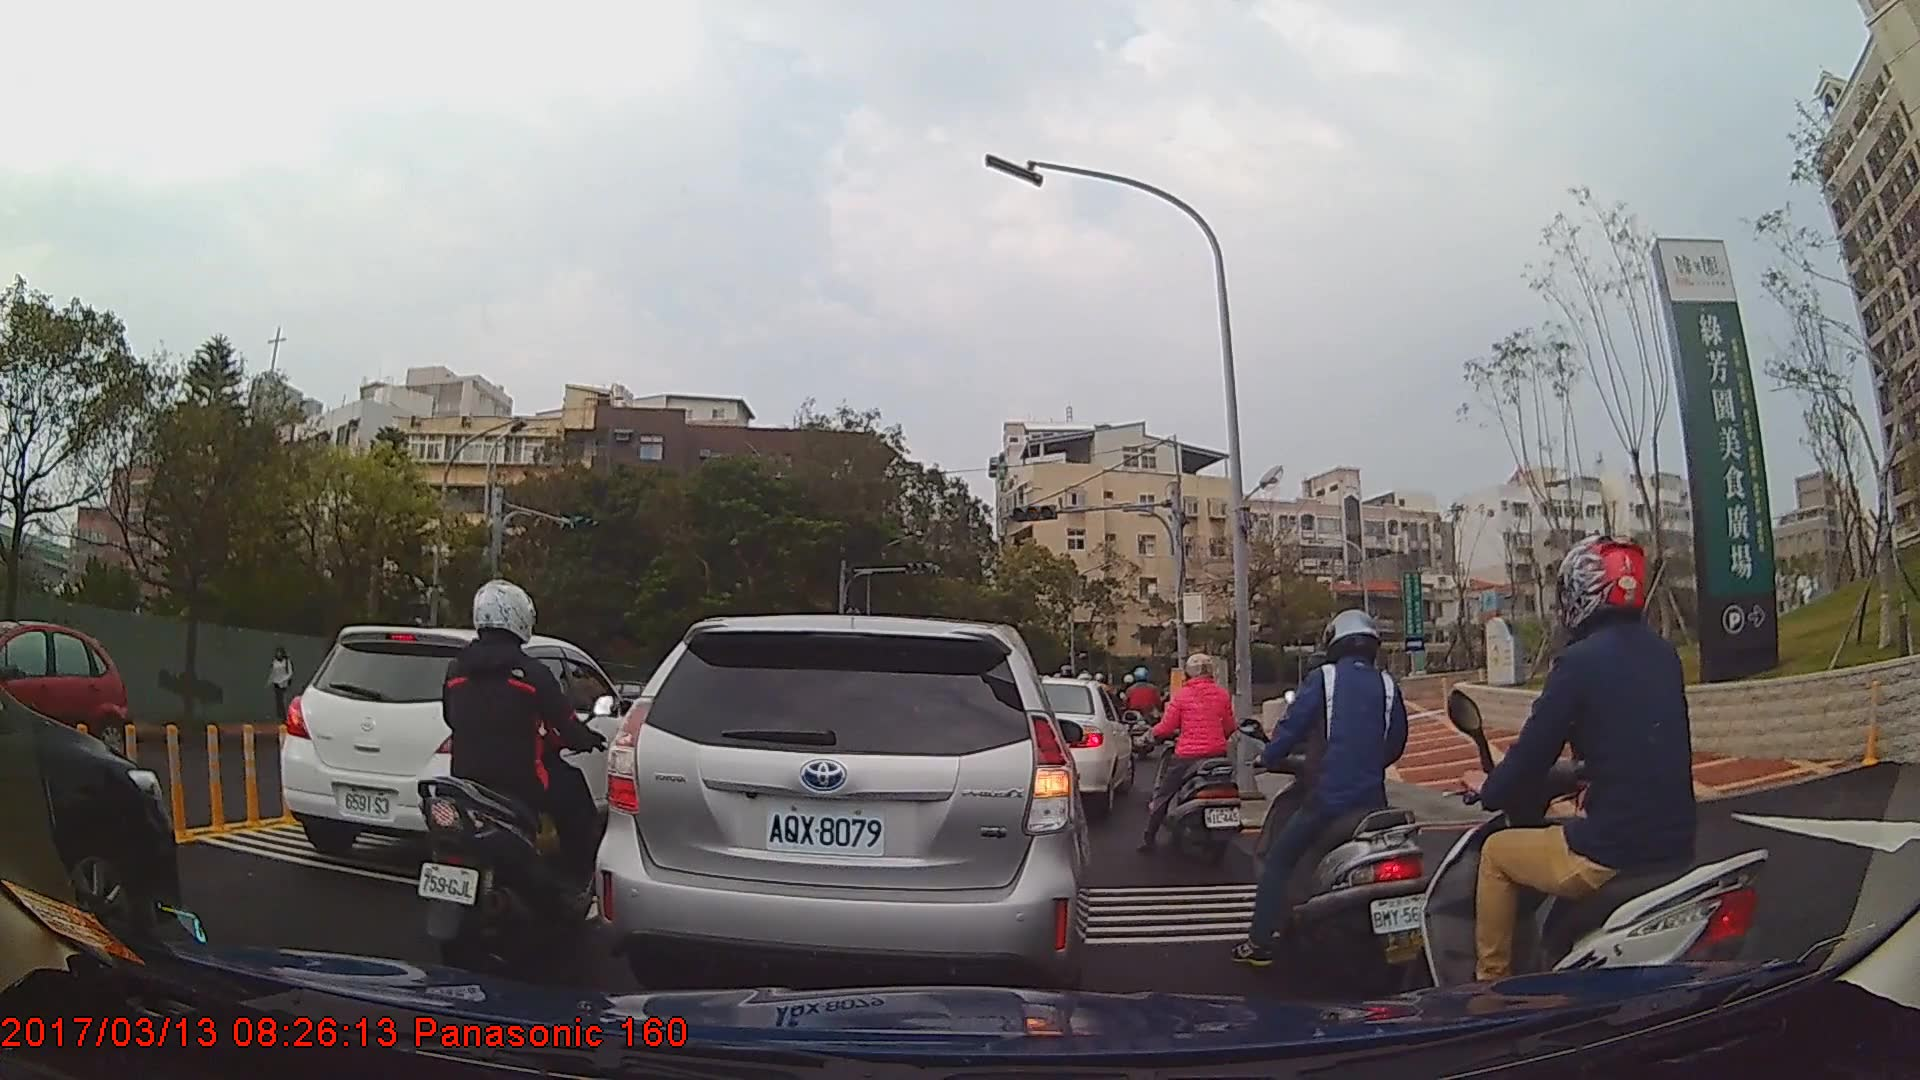pedestrian: (267, 647, 296, 725)
rider: (1424, 534, 1776, 1059), (1241, 607, 1439, 1000), (420, 578, 611, 983), (1139, 652, 1245, 866), (1123, 666, 1163, 763)
vehicle: (593, 613, 1089, 997), (279, 626, 632, 866), (0, 681, 177, 952), (0, 616, 129, 762), (1025, 675, 1134, 814)
